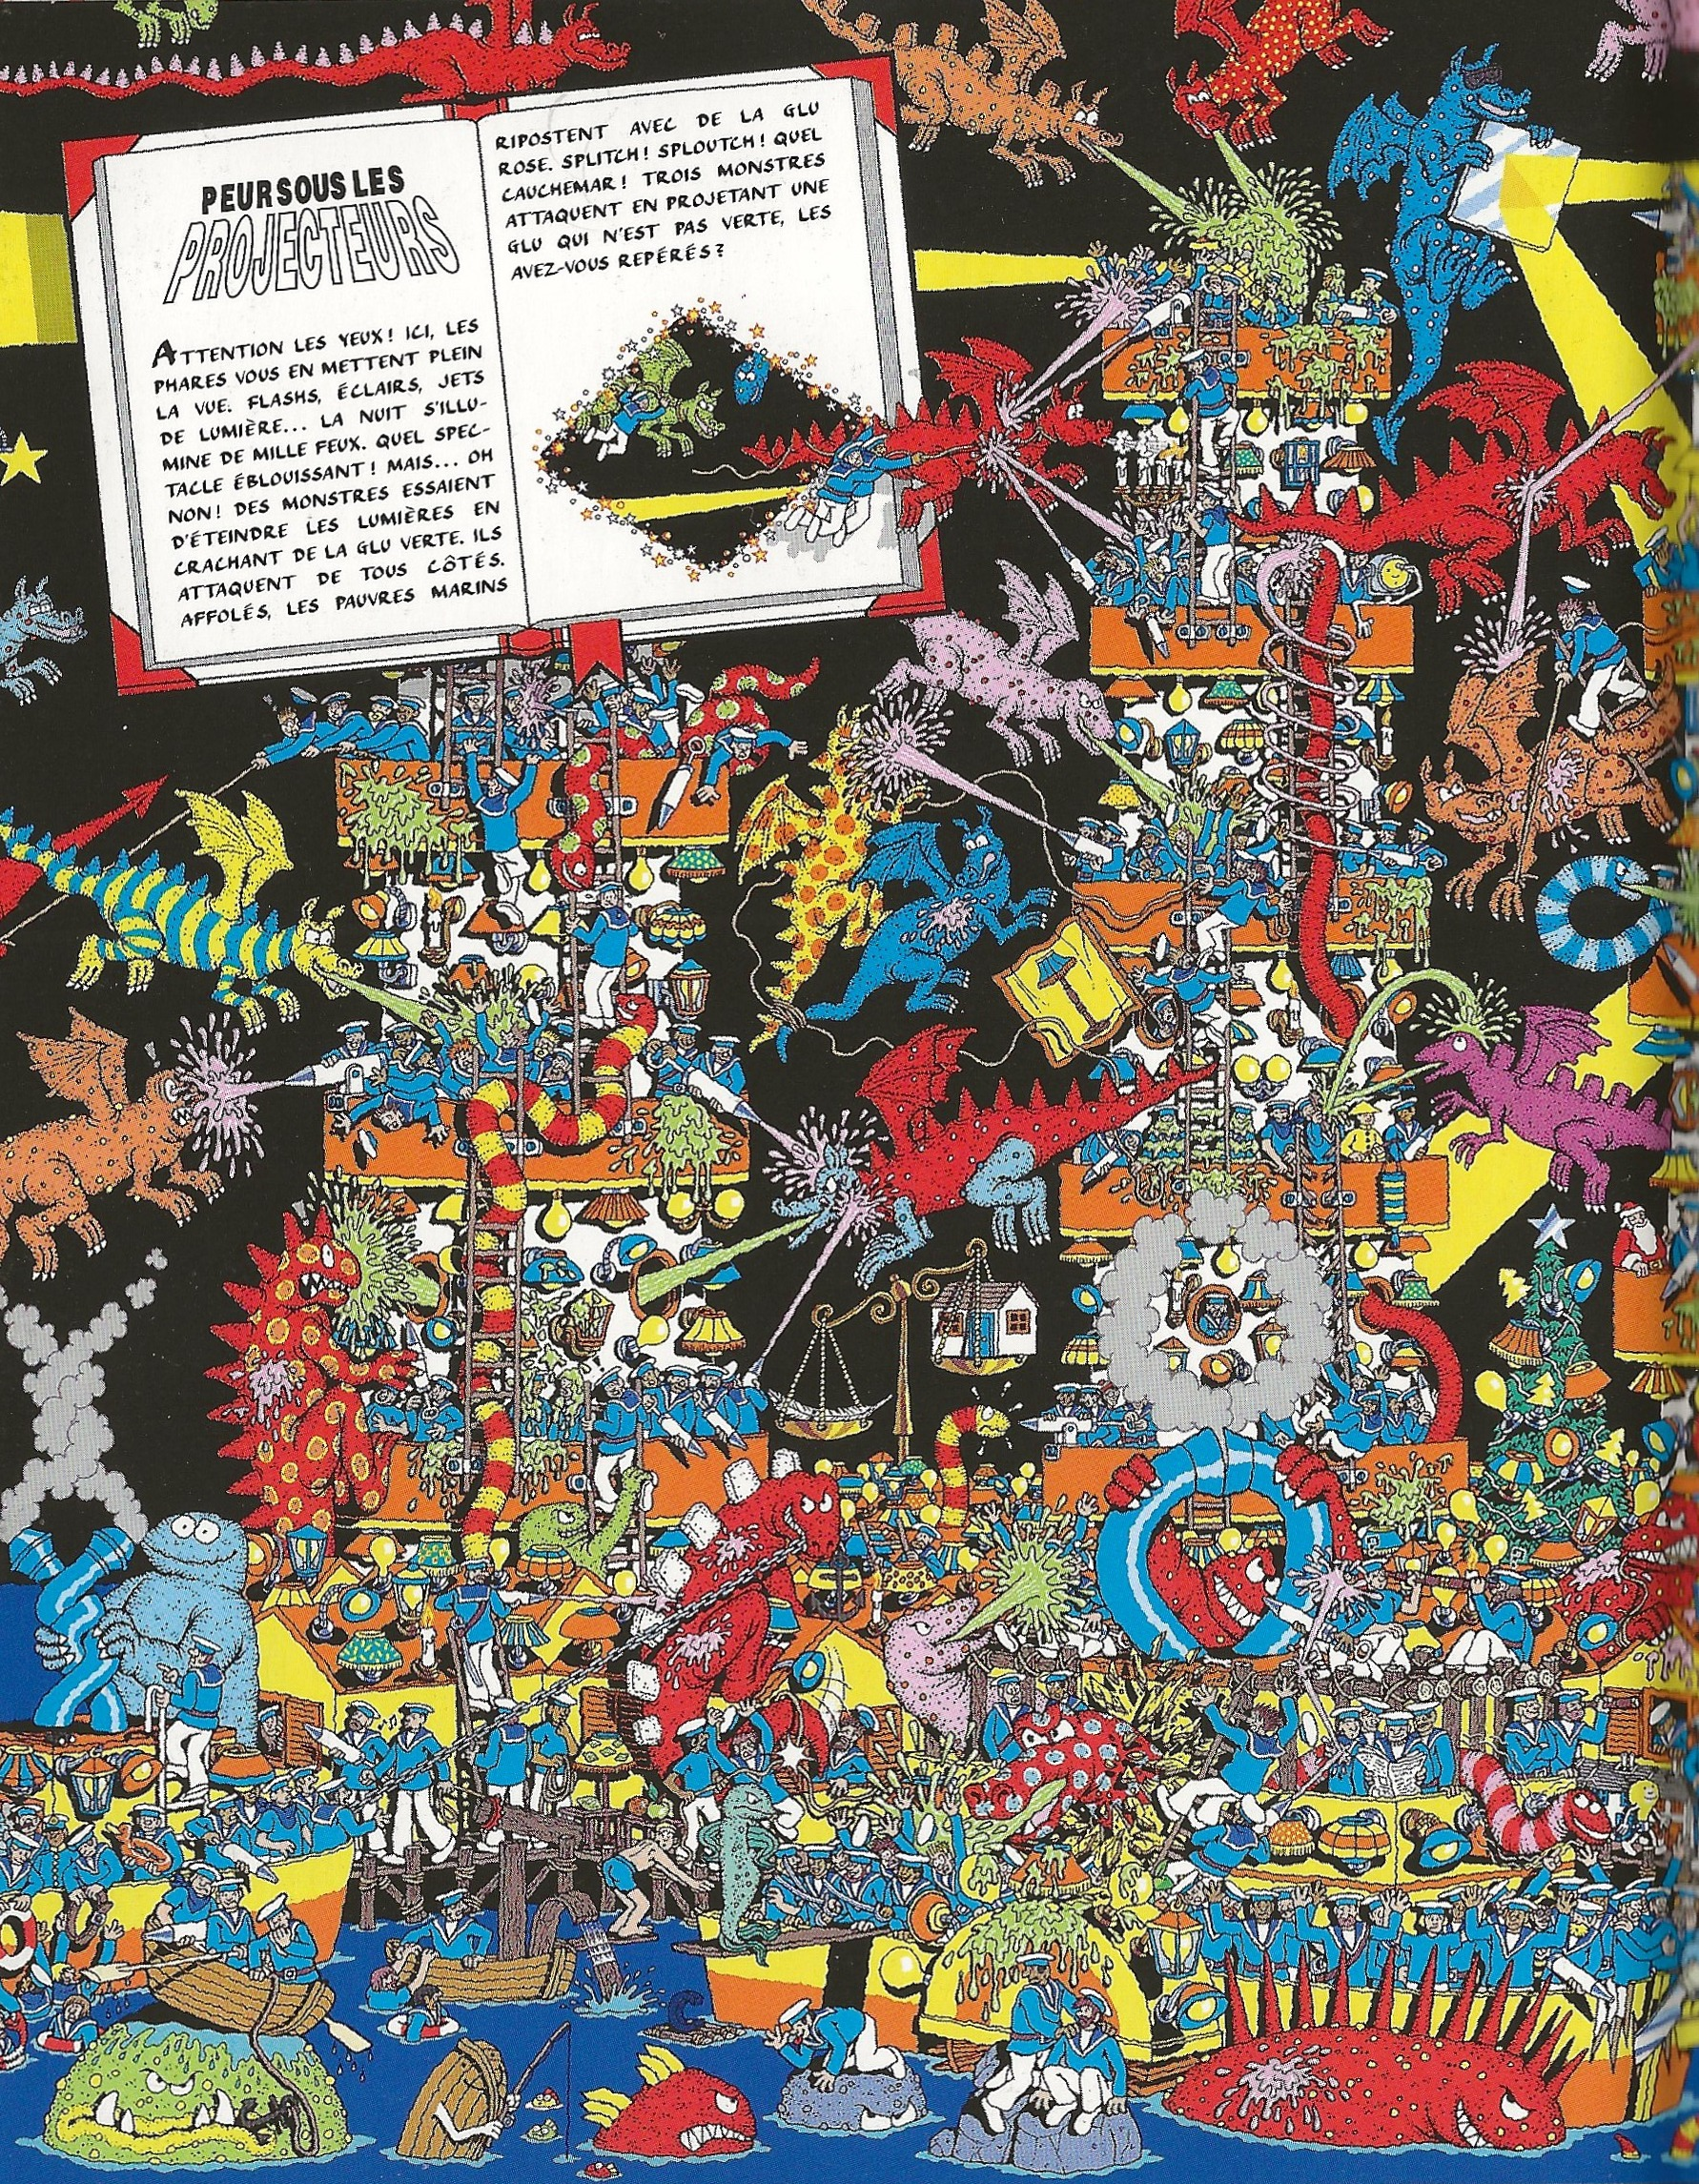Charlie: (1098, 1379, 1119, 1411)
